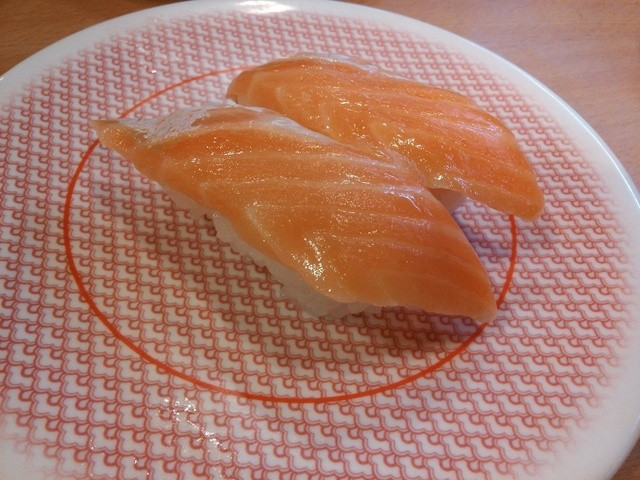salmon: (108, 104, 492, 344)
